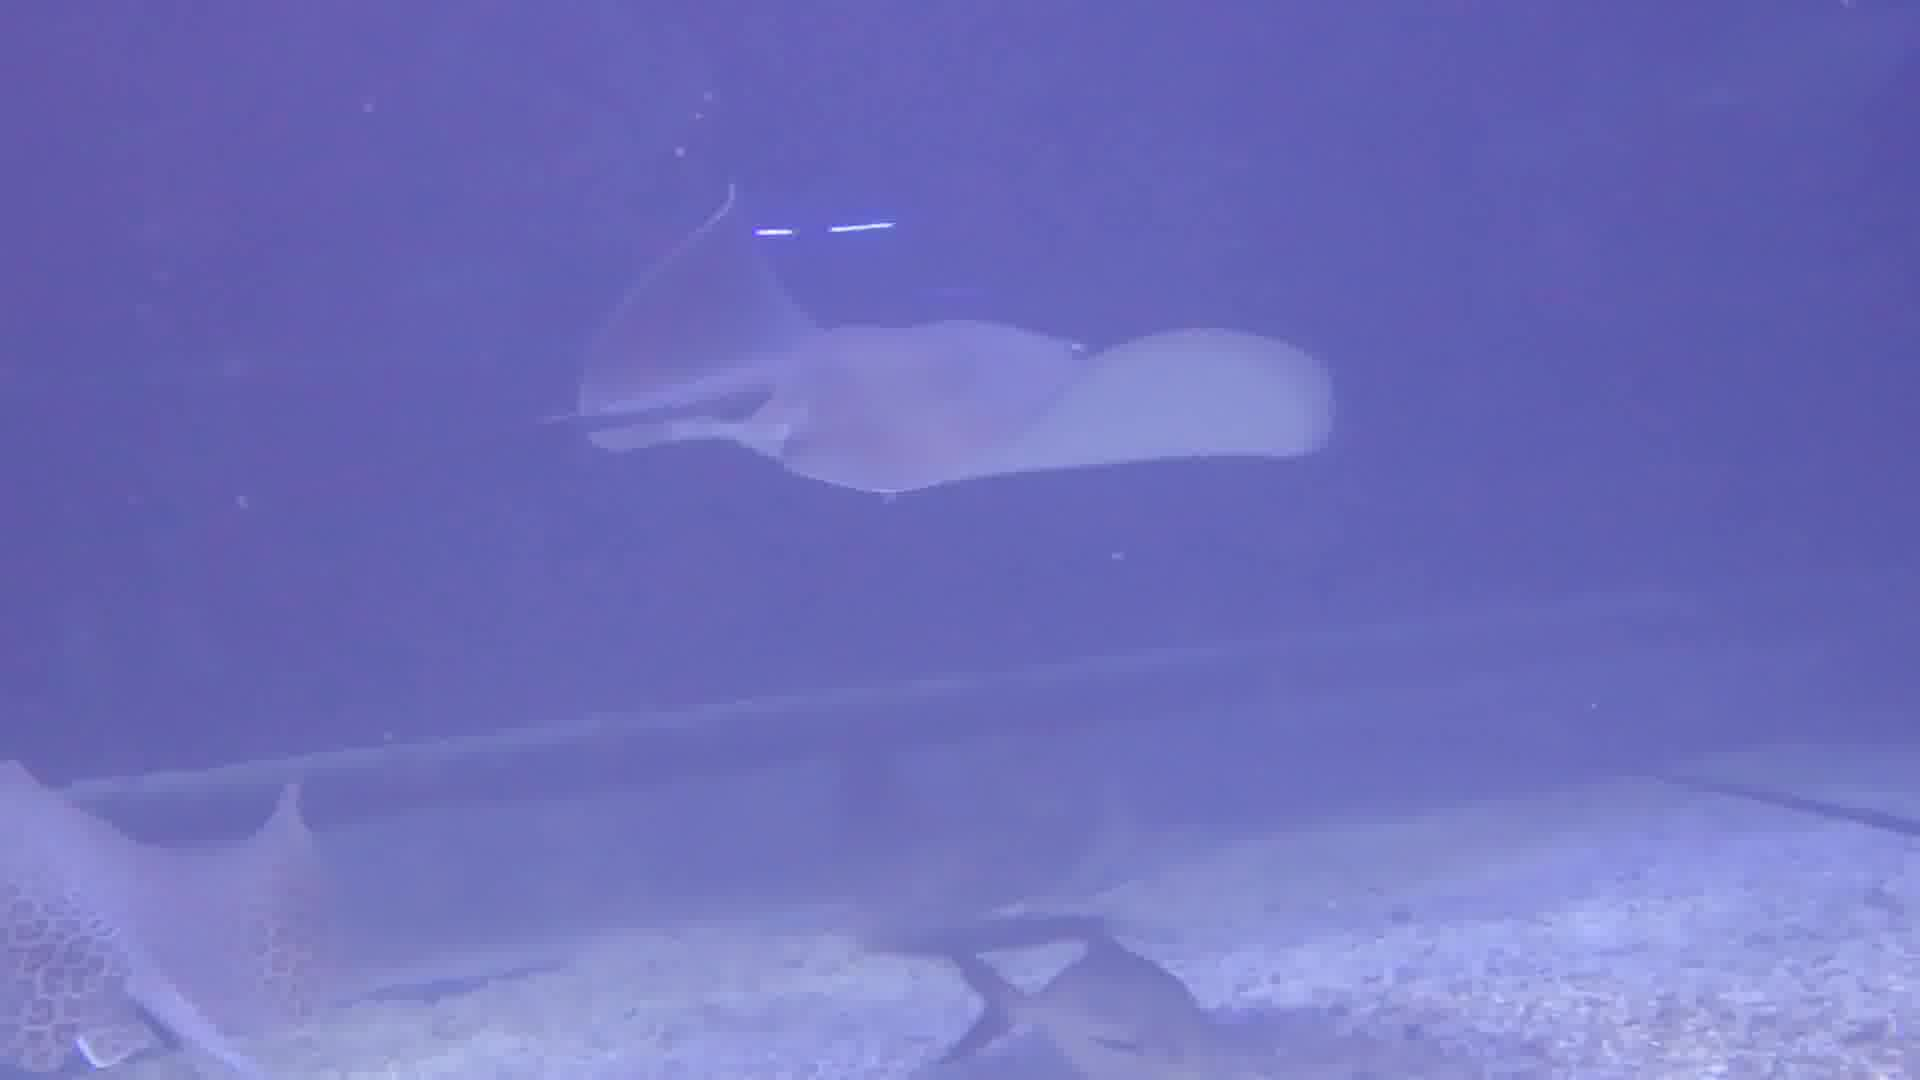Dasyatis akajei: (433, 152, 1443, 622)
